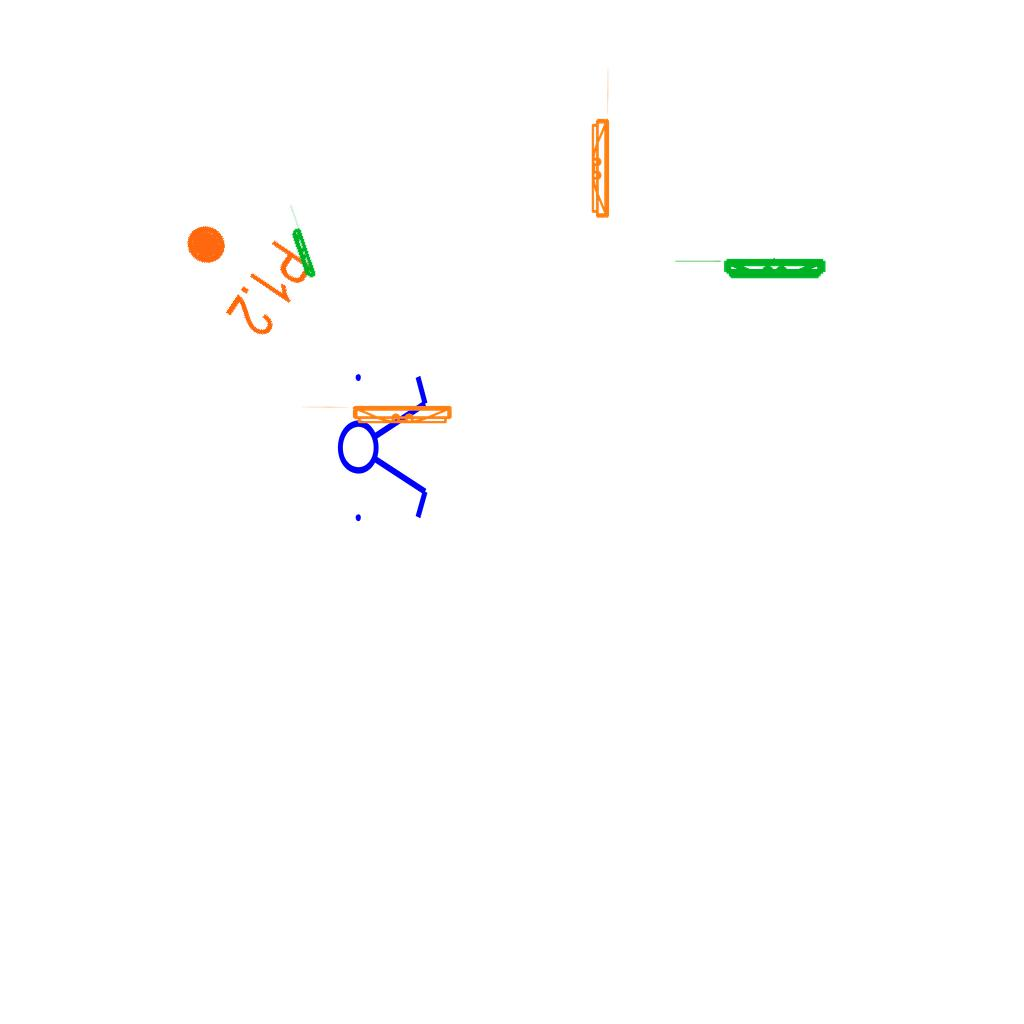Downlight_LED_Einbauleuchten_Flur: (160, 194, 319, 344)
Serienschalter: (336, 362, 432, 530)
Sicherheitsleuchte_Wandeinbau: (298, 403, 457, 428), (670, 257, 829, 282), (587, 64, 612, 223), (280, 202, 318, 281)
